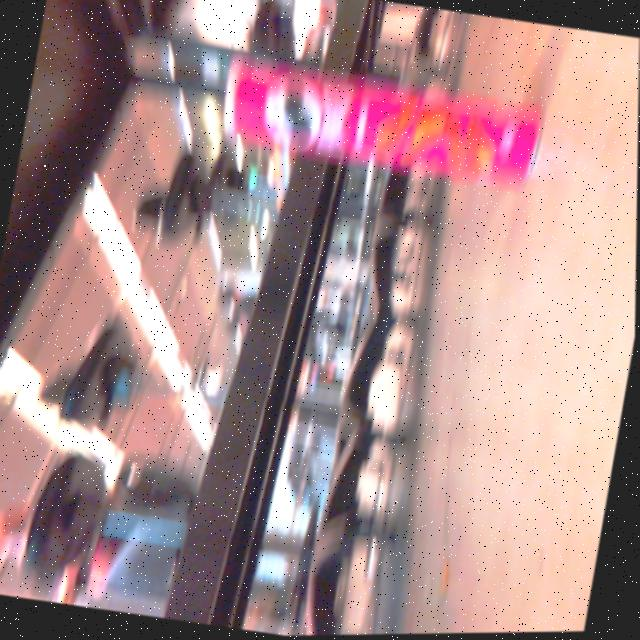redpringles: (201, 39, 572, 198)
